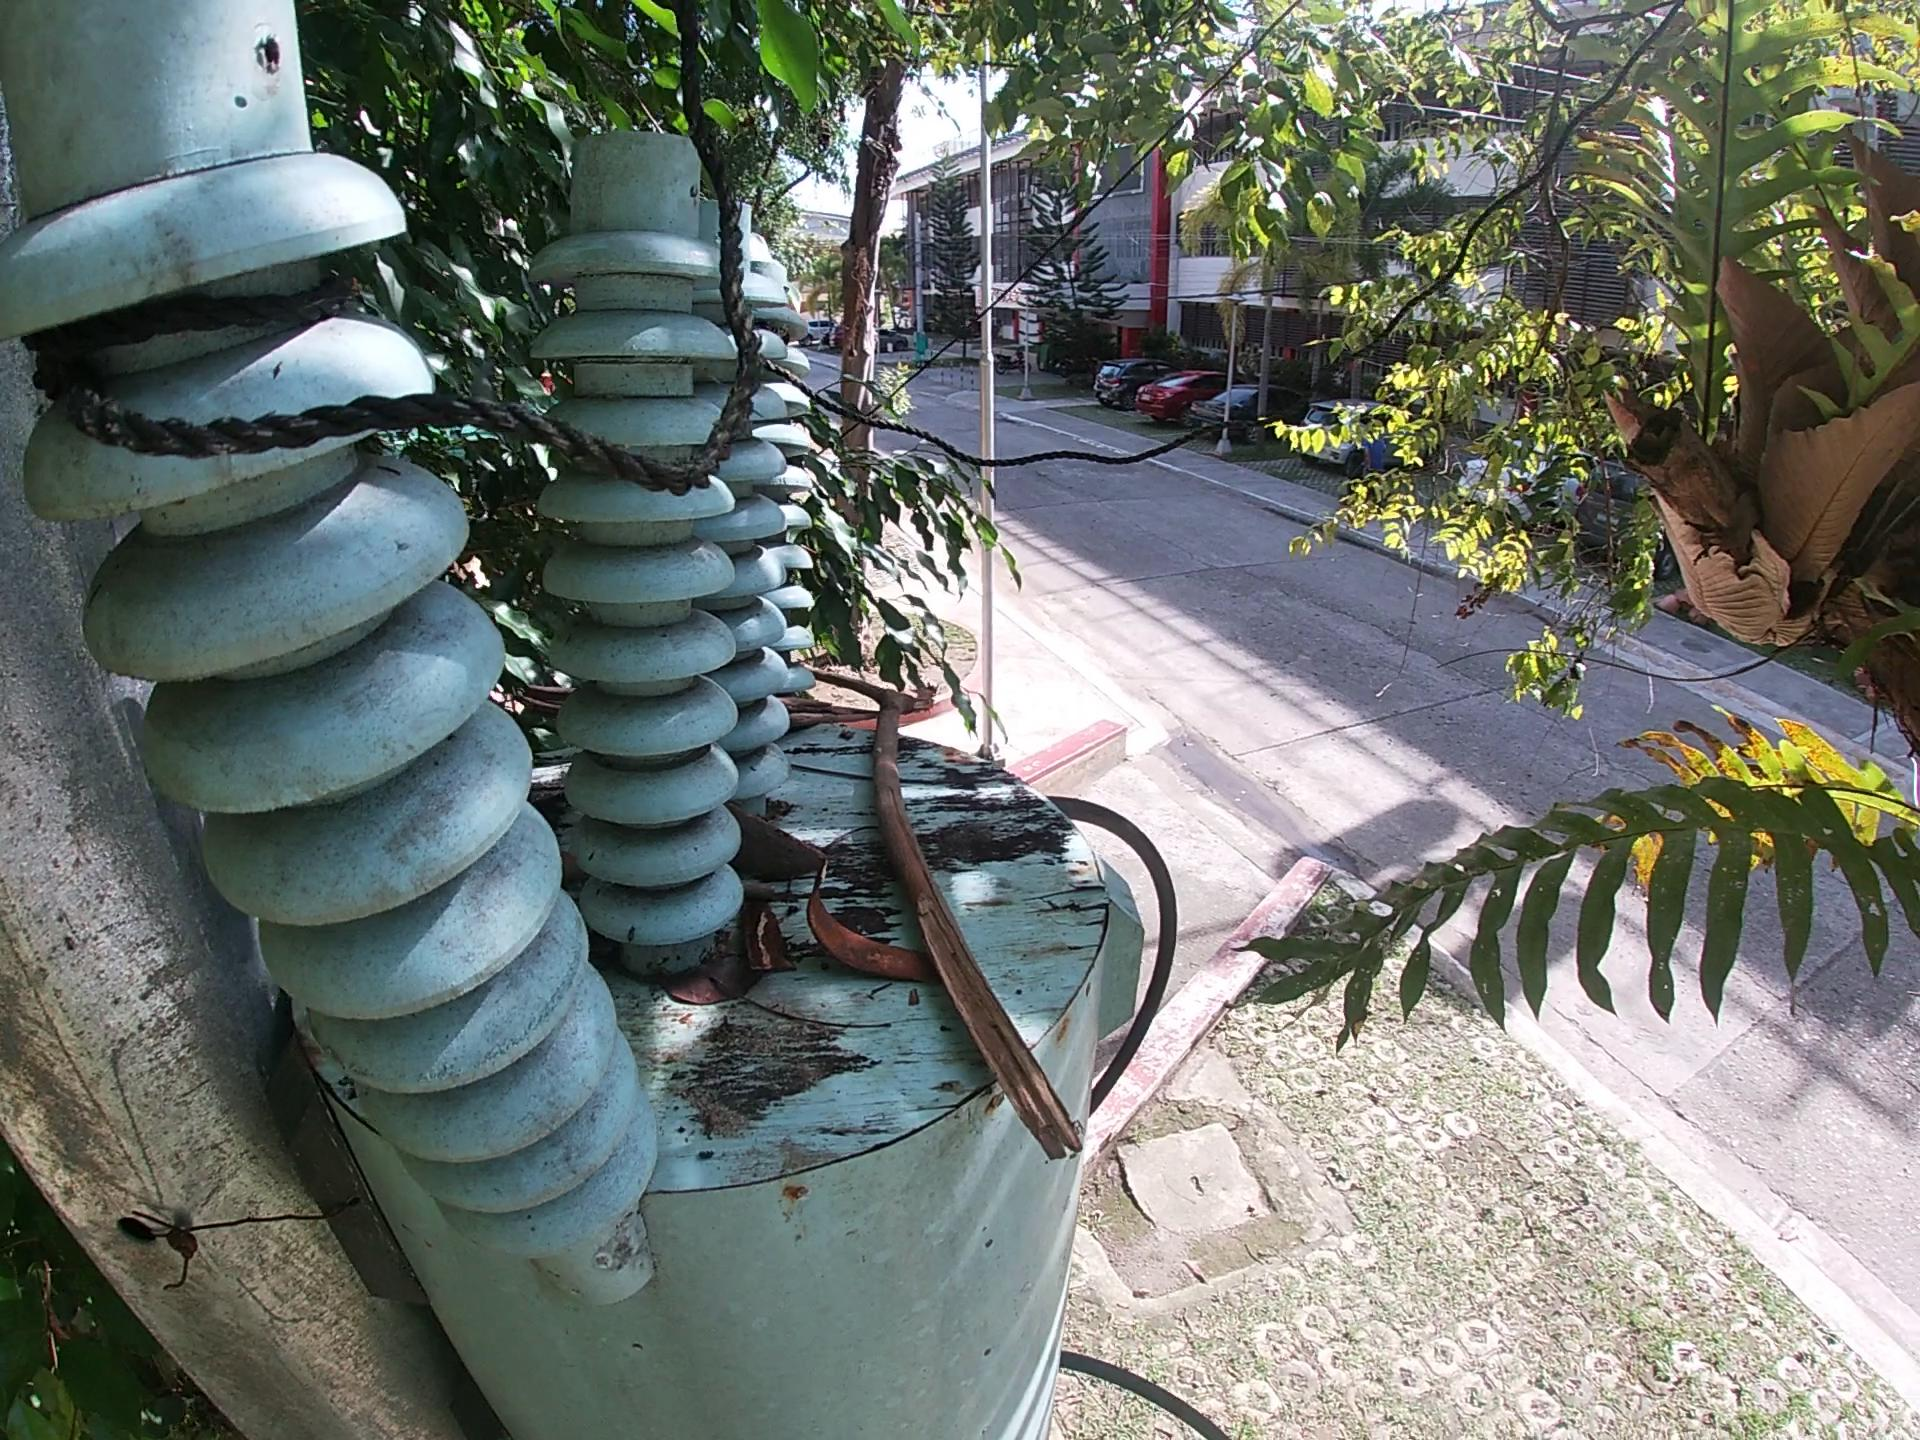leaf: (649, 941, 759, 1012)
mahogany fruit: (800, 861, 946, 991), (723, 803, 830, 886), (738, 895, 797, 976)
tree branch: (810, 664, 1089, 1168), (774, 691, 878, 740), (736, 880, 779, 908)
